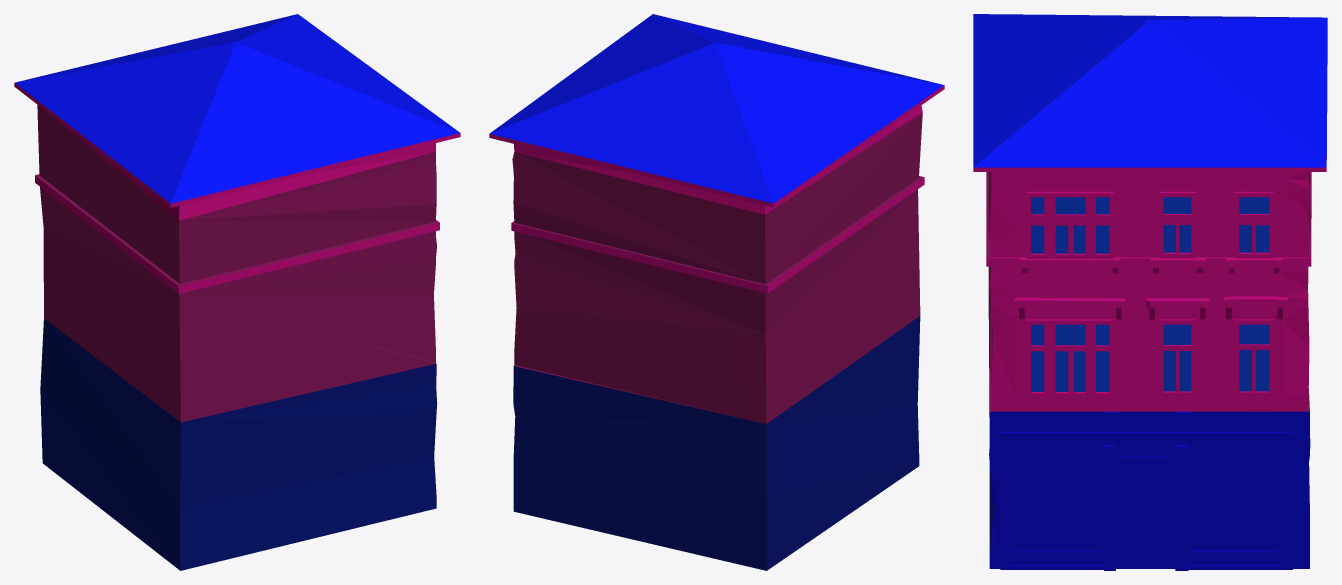
File: pinkHouse.obj
The picture shows the model from 3 angles, left to right: view 1: azimuth 30°, elevation 25°; view 2: azimuth 150°, elevation 25°; view 3: azimuth 270°, elevation 25°; orthographic projection. The views are drawn at different scales.
Visible parts, largest first — view 1: 1; view 2: 1; view 3: 1.
Boxes of the visible parts, bbox=[...] form: 1: bbox=[14, 14, 460, 570]; 1: bbox=[489, 14, 944, 570]; 1: bbox=[973, 14, 1327, 570].
Size of the model in its own units: 1.21 by 1.77 by 1.18.
